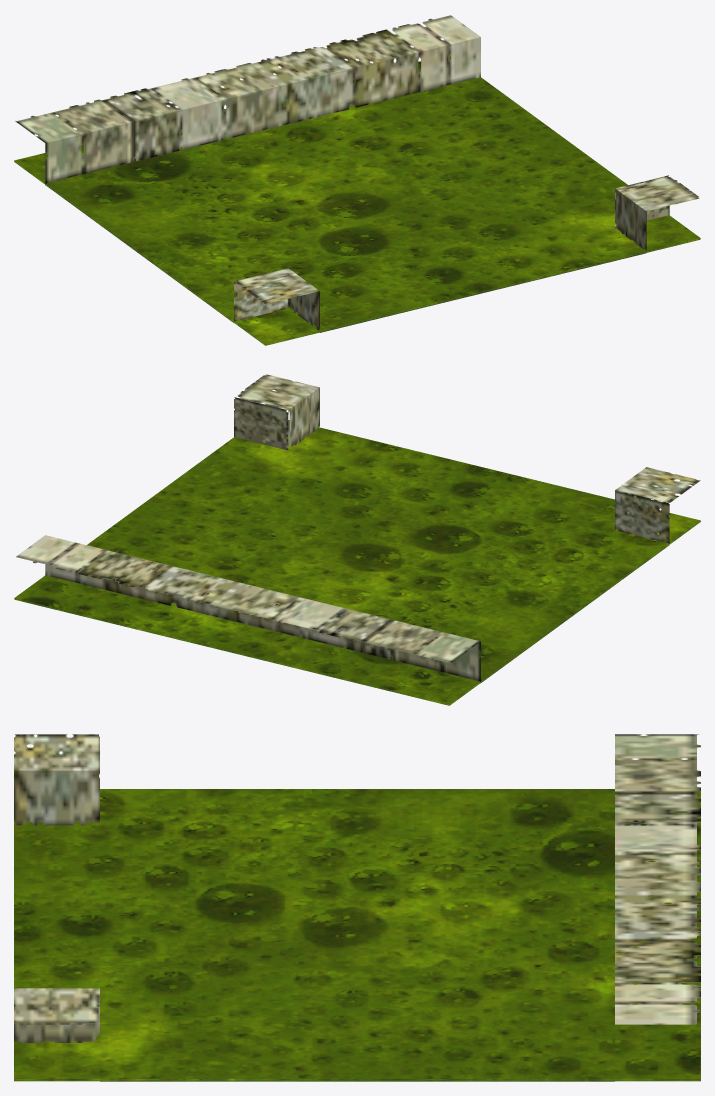
The model's file is sewerFloor3Way.fbx.
The picture shows the model from 3 angles, top to bottom: view 1: azimuth 30°, elevation 25°; view 2: azimuth 150°, elevation 25°; view 3: azimuth 270°, elevation 25°; orthographic projection. The views are drawn at different scales.
Visible parts, largest first — view 1: waterPlaneC03, sewerFloor3Way, waterPlaneB03, waterPlaneA03, sewerDeep3Way01; view 2: waterPlaneC03, sewerFloor3Way, waterPlaneB03, waterPlaneA03; view 3: waterPlaneC03, sewerFloor3Way, waterPlaneA03, waterPlaneB03.
Part boxes in pixels (x1,y1,x2,y2): waterPlaneC03: [14, 55, 700, 344]; sewerFloor3Way: [15, 15, 699, 330]; waterPlaneB03: [14, 161, 700, 345]; waterPlaneA03: [14, 161, 700, 344]; sewerDeep3Way01: [45, 185, 645, 332]; waterPlaneC03: [14, 420, 700, 704]; sewerFloor3Way: [16, 374, 700, 682]; waterPlaneB03: [14, 521, 700, 705]; waterPlaneA03: [14, 521, 700, 704]; waterPlaneC03: [14, 789, 700, 1079]; sewerFloor3Way: [14, 734, 700, 1042]; waterPlaneA03: [14, 1079, 700, 1080]; waterPlaneB03: [14, 1080, 700, 1081].
Bounding box in the file's own units: 300 × 27.54 × 300.
4 materials, 4 textured.
